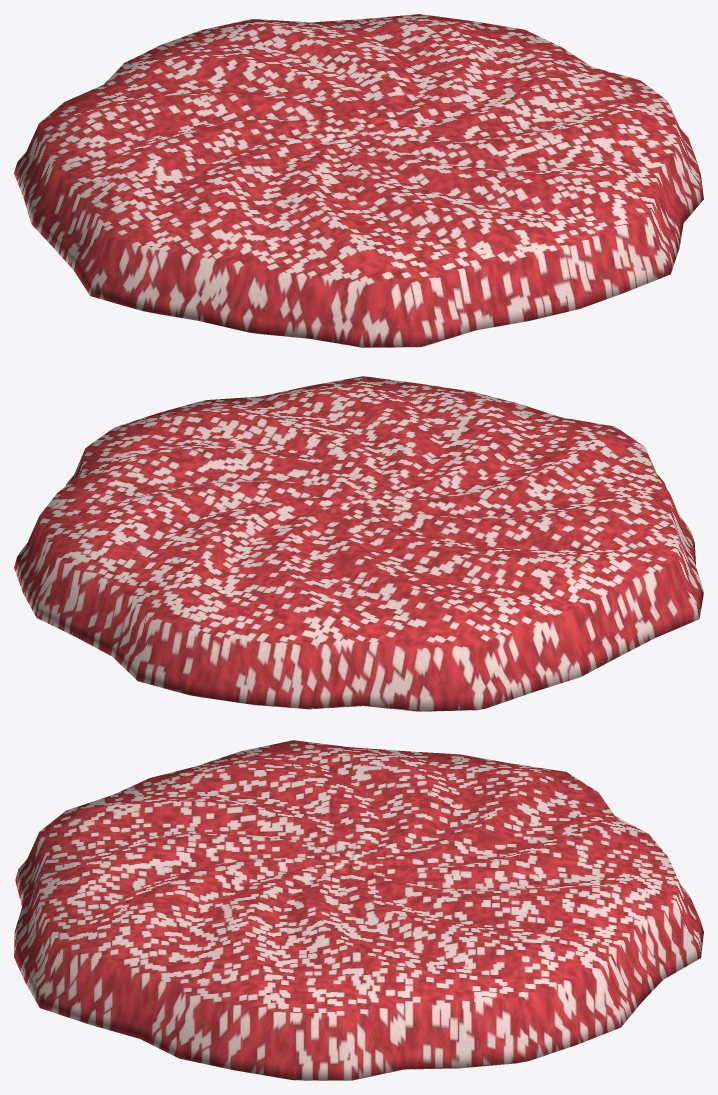
Rendered from kr_patty_raw.glb.
The picture shows the model from 3 angles, top to bottom: view 1: azimuth 30°, elevation 25°; view 2: azimuth 150°, elevation 25°; view 3: azimuth 270°, elevation 25°; orthographic projection.
Parts seen in each view (by area): view 1: kr_patty_raw_f_ground_raw; view 2: kr_patty_raw_f_ground_raw; view 3: kr_patty_raw_f_ground_raw.
Part boxes in pixels (left/top/right/bottom): kr_patty_raw_f_ground_raw: left=14, top=14, right=703, bottom=347; kr_patty_raw_f_ground_raw: left=14, top=376, right=703, bottom=711; kr_patty_raw_f_ground_raw: left=14, top=740, right=703, bottom=1080.
Bounding box in the file's own units: 0.2212 × 0.0338 × 0.2162.
Materials: 1 (1 with a texture image).
